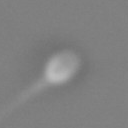normal: (1, 78, 46, 115)
